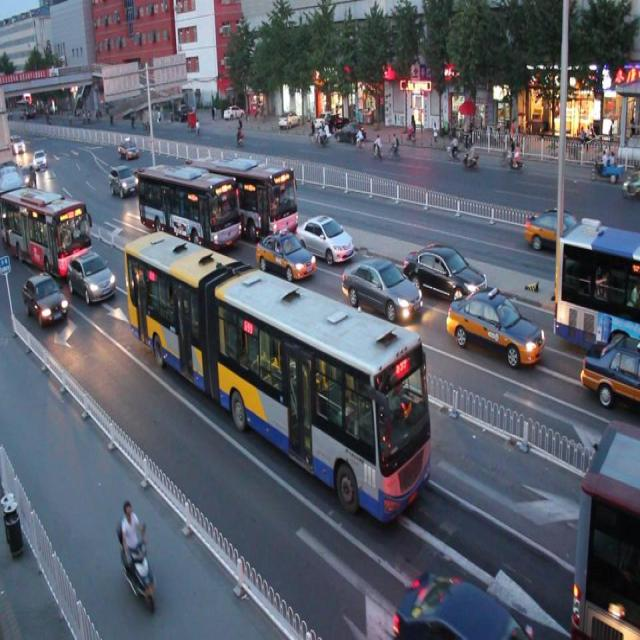car: (392, 564, 532, 640), (445, 286, 545, 368), (341, 256, 422, 324), (404, 242, 486, 306), (579, 336, 640, 406), (254, 230, 315, 283), (295, 213, 354, 266), (21, 269, 70, 327), (68, 246, 116, 304), (522, 207, 574, 250)
van: (125, 231, 428, 523), (571, 425, 640, 640), (555, 223, 640, 348), (190, 153, 298, 242), (138, 164, 242, 250), (0, 186, 90, 275)
